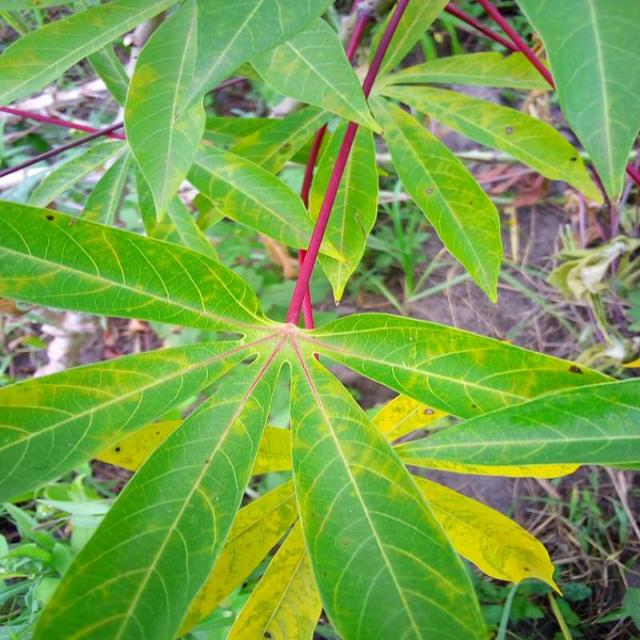cassava leaf: (0, 1, 638, 638), (29, 347, 278, 638), (286, 338, 488, 638)
